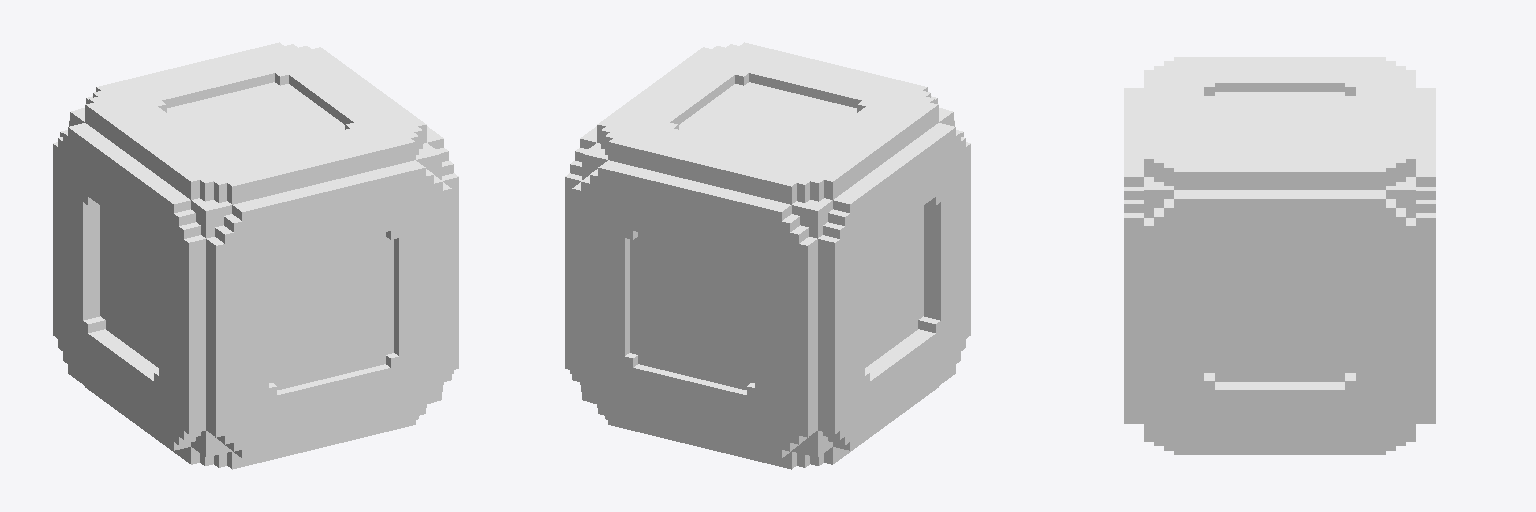
The model's file is Block05.obj.
3 views of the same model, side by side, from view 1: azimuth 30°, elevation 25°; view 2: azimuth 150°, elevation 25°; view 3: azimuth 270°, elevation 25° (orthographic).
Parts seen in each view (by area): view 1: object 1; view 2: object 1; view 3: object 1.
Boxes of the visible parts, <box> form: object 1: <box>53,42,458,469</box>; object 1: <box>565,42,970,469</box>; object 1: <box>1124,57,1435,454</box>.
Bounding box in the file's own units: 3.1 × 3.1 × 3.1.